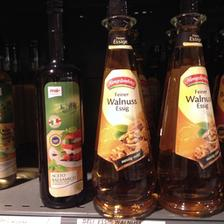Essig: (92, 7, 156, 218), (160, 8, 224, 214), (30, 29, 90, 209)
